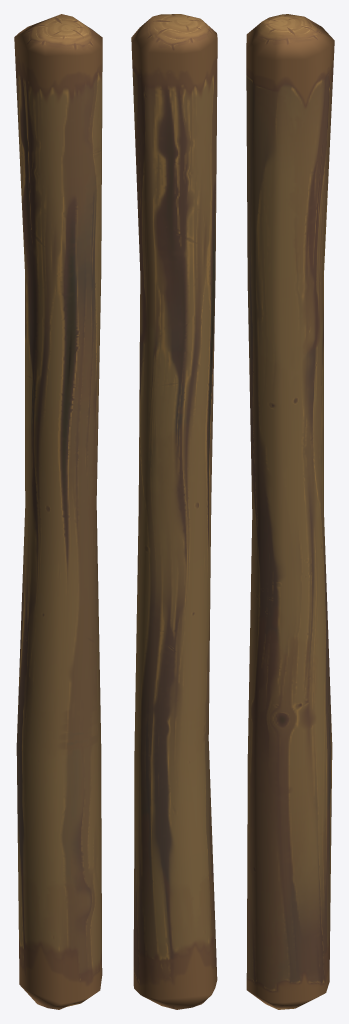
Rendered from SM_MOD_pillar_town_01.fbx.
The picture shows the model from 3 angles, left to right: view 1: azimuth 90°, elevation 25°; view 2: azimuth 150°, elevation 25°; view 3: azimuth 270°, elevation 25°; orthographic projection.
Parts seen in each view (by area): view 1: SM_MOD_pillar_town_01_LOD0; view 2: SM_MOD_pillar_town_01_LOD0; view 3: SM_MOD_pillar_town_01_LOD0.
Part boxes in pixels (x1,y1,x2,y2): SM_MOD_pillar_town_01_LOD0: [14, 14, 102, 1009]; SM_MOD_pillar_town_01_LOD0: [131, 14, 217, 1009]; SM_MOD_pillar_town_01_LOD0: [246, 14, 334, 1009].
Size of what is drawn, in the model's own units: 24.27 by 306 by 25.16.
